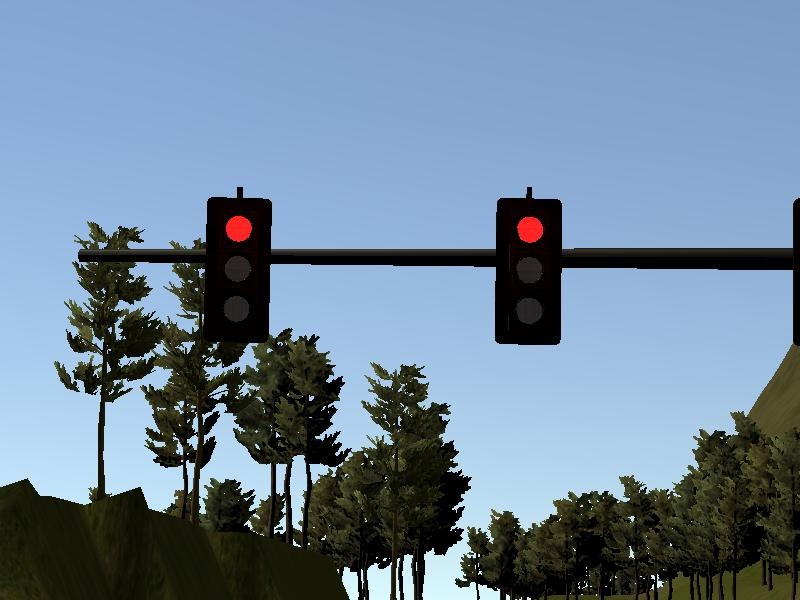red: (493, 194, 567, 349), (201, 191, 270, 344)
